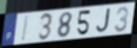3: (37, 11, 54, 42), (114, 6, 130, 33)
5: (77, 10, 92, 36)
8: (57, 11, 73, 39)
I: (20, 15, 30, 43)
J: (95, 8, 111, 34)
